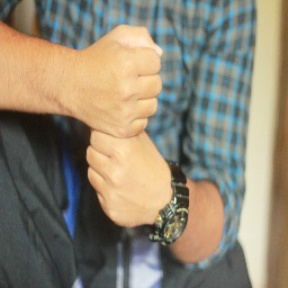G: (74, 19, 179, 232)
